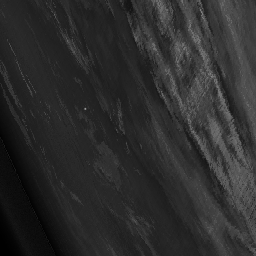Target: (83, 106, 87, 111)
